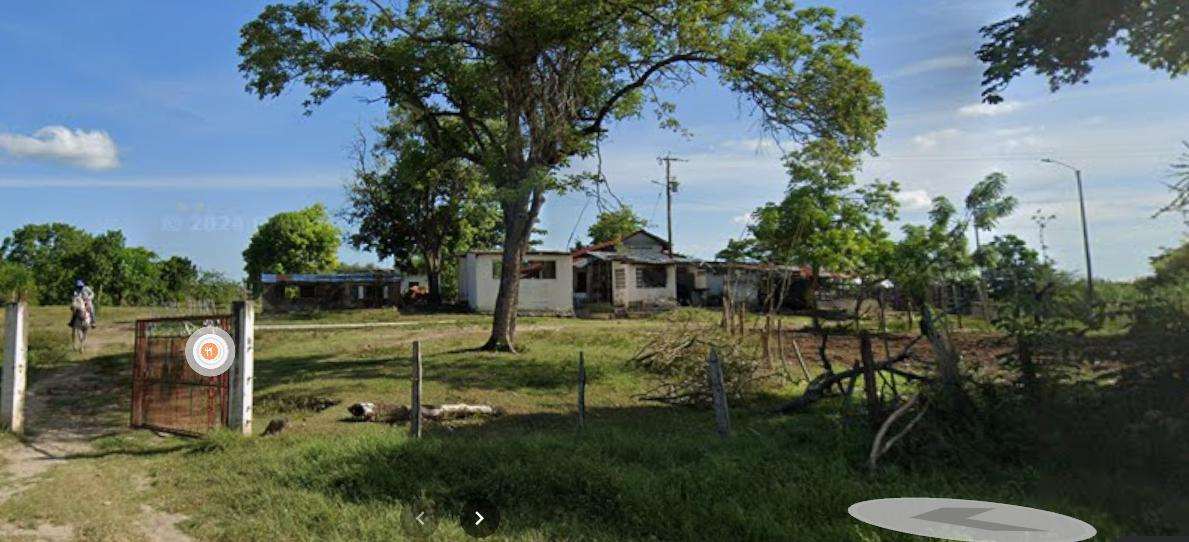casa: (254, 230, 856, 316)
